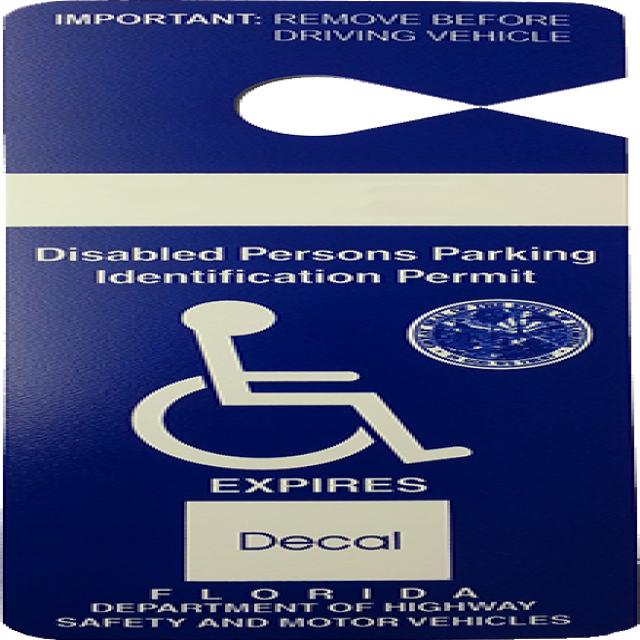symbol_of_access: (100, 288, 510, 480)
